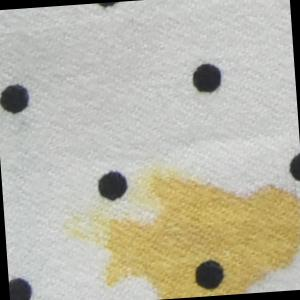Oil Stain: (94, 158, 300, 300)
